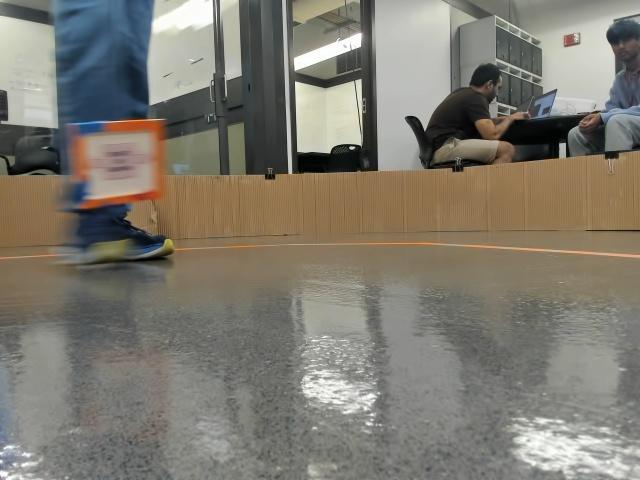Do Not Go Around: (85, 147, 149, 182)
